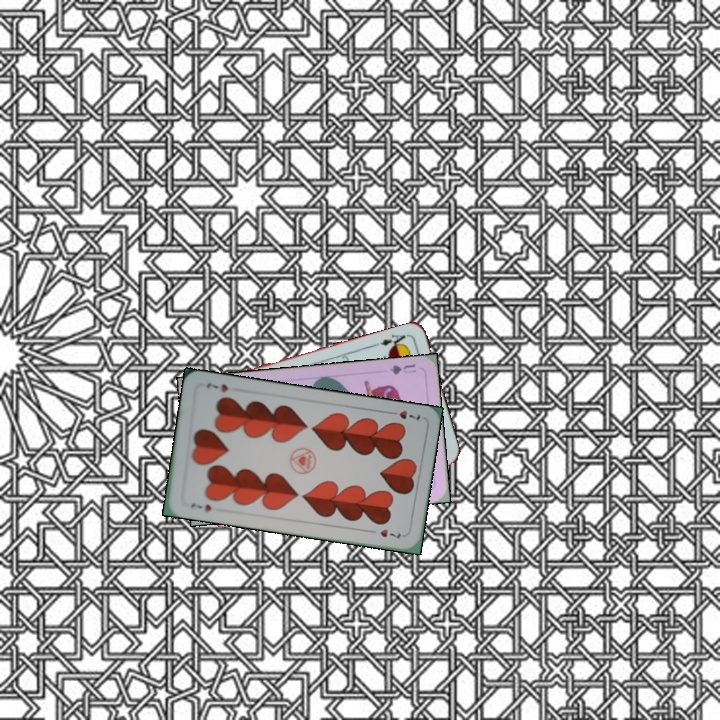EA: (371, 330, 411, 352)
GU: (386, 360, 418, 377)
H7: (384, 406, 423, 422), (187, 499, 214, 514)
